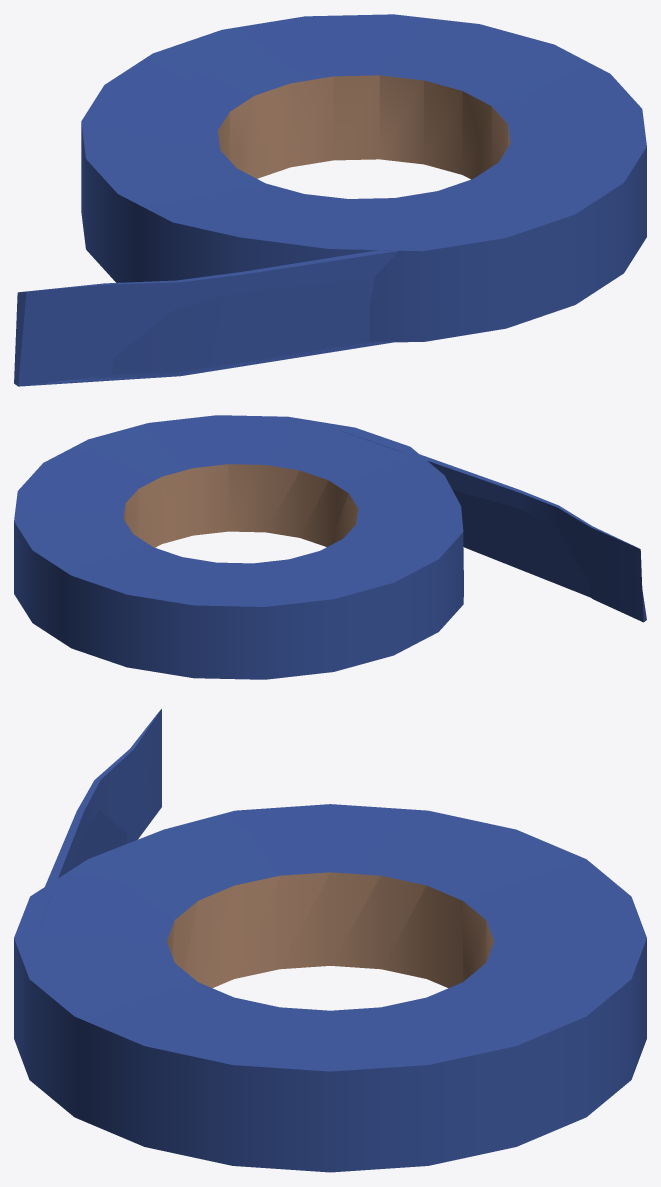
File: tape.fbx
3 renders of one model, top to bottom at view 1: azimuth 30°, elevation 25°; view 2: azimuth 150°, elevation 25°; view 3: azimuth 270°, elevation 25°, orthographic. The views are drawn at different scales.
Visible parts, largest first — view 1: pasted__group2; view 2: pasted__group2; view 3: pasted__group2.
Part boxes in pixels (left/top/right/bottom): pasted__group2: left=14, top=14, right=646, bottom=386; pasted__group2: left=14, top=415, right=646, bottom=679; pasted__group2: left=14, top=709, right=646, bottom=1172.
Size of the model in its own units: 9.37 by 1.21 by 6.86.
